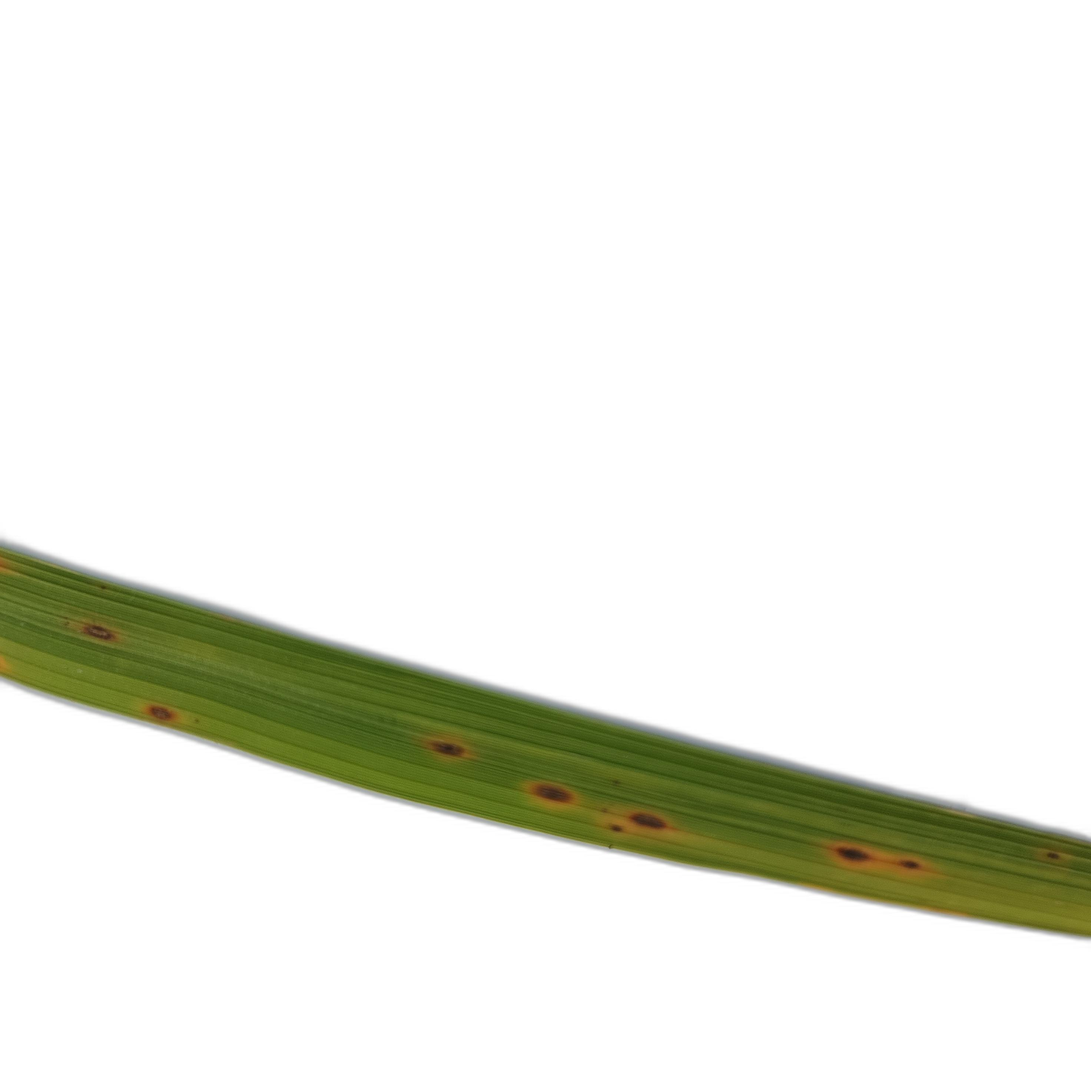LEAF: (0, 549, 1091, 936)
LEAF BLAST: (825, 840, 883, 868), (525, 781, 580, 810), (422, 733, 475, 760), (624, 810, 682, 833), (78, 623, 121, 642), (142, 703, 180, 724)
